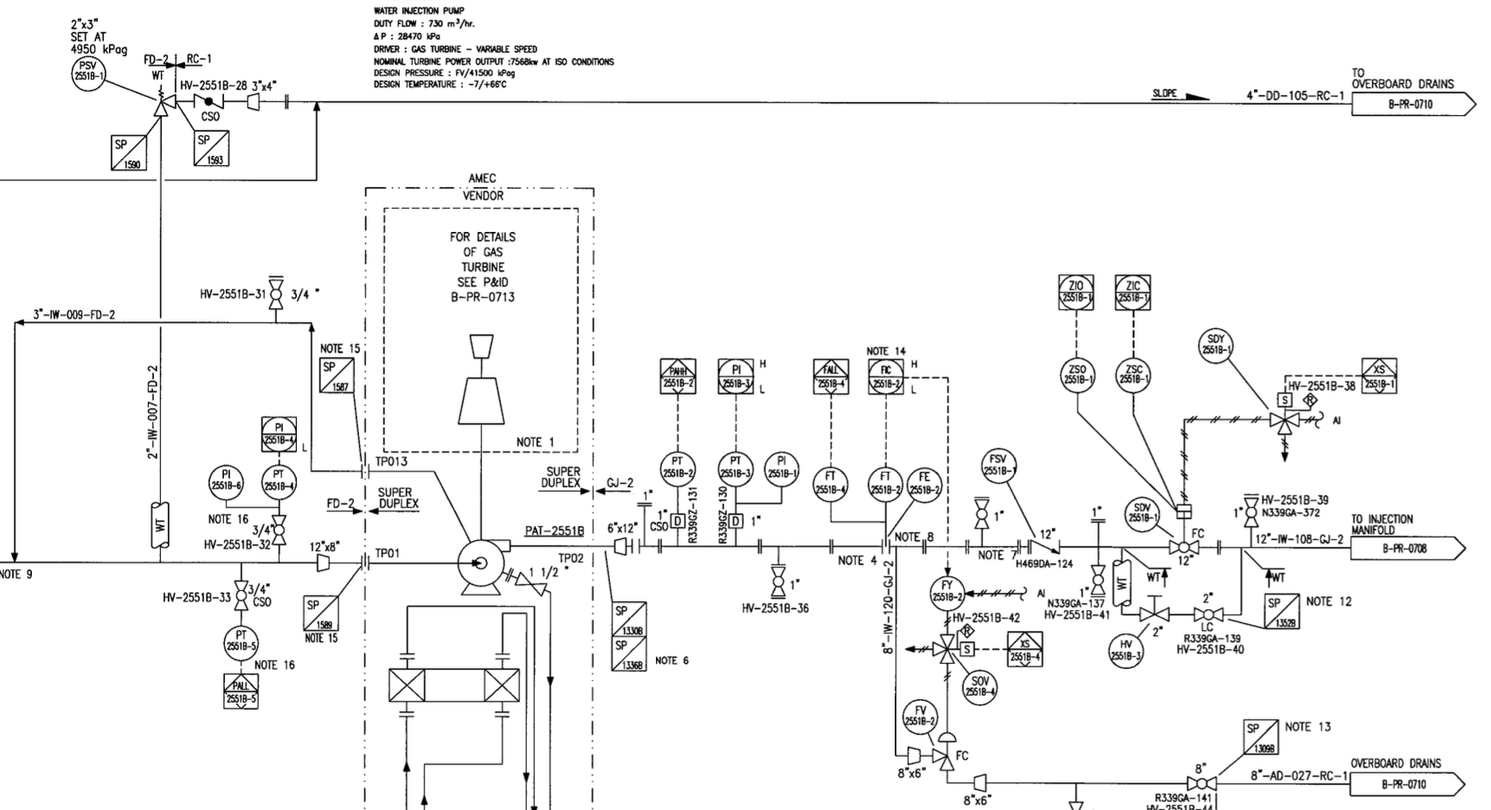Instrument: (1192, 320, 1238, 371), (1110, 350, 1157, 397), (1121, 491, 1167, 538), (1101, 626, 1148, 672), (202, 459, 249, 505), (219, 623, 269, 666), (1056, 351, 1100, 399), (927, 567, 971, 614), (905, 464, 949, 511), (63, 53, 112, 93), (714, 446, 757, 491), (959, 665, 1001, 711), (765, 448, 806, 495), (658, 445, 699, 492), (864, 463, 906, 508), (898, 695, 941, 738), (260, 463, 305, 503), (977, 443, 1019, 485), (811, 465, 851, 508)
Instrument-square: (807, 352, 857, 402), (1356, 350, 1403, 402), (215, 665, 262, 717), (253, 408, 301, 455), (657, 348, 700, 400), (712, 354, 758, 401), (1005, 627, 1049, 673), (865, 356, 911, 400), (1110, 268, 1154, 312), (1053, 272, 1097, 312)
